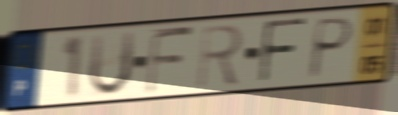1: (60, 33, 85, 102)
F: (143, 25, 197, 97), (256, 16, 309, 86)
P: (305, 15, 356, 82)
R: (194, 22, 246, 92)
U: (86, 28, 138, 100)
